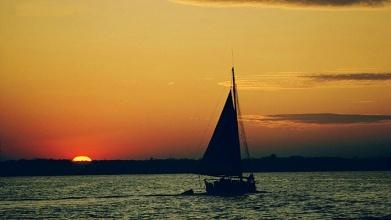fanchuan: (203, 68, 261, 194)
